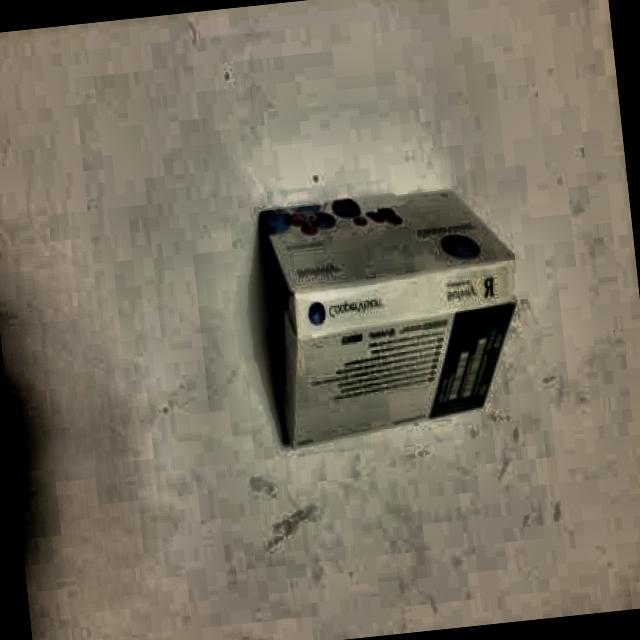paper: (246, 182, 534, 452)
